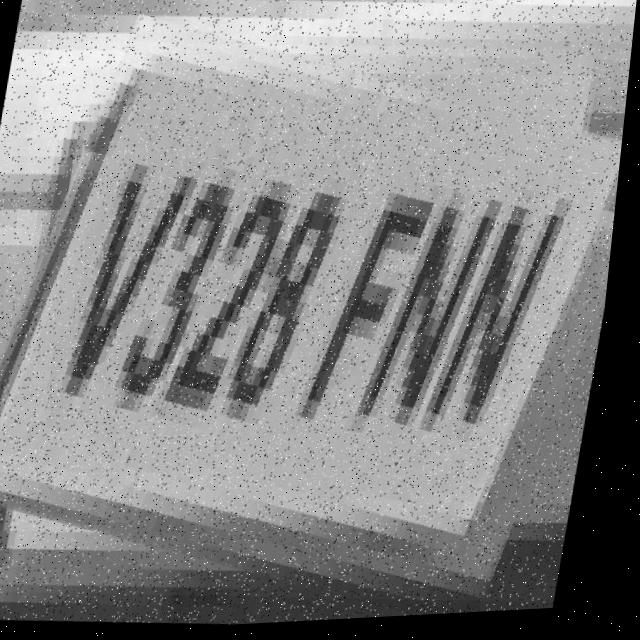LicensePlate: (0, 16, 637, 632)
